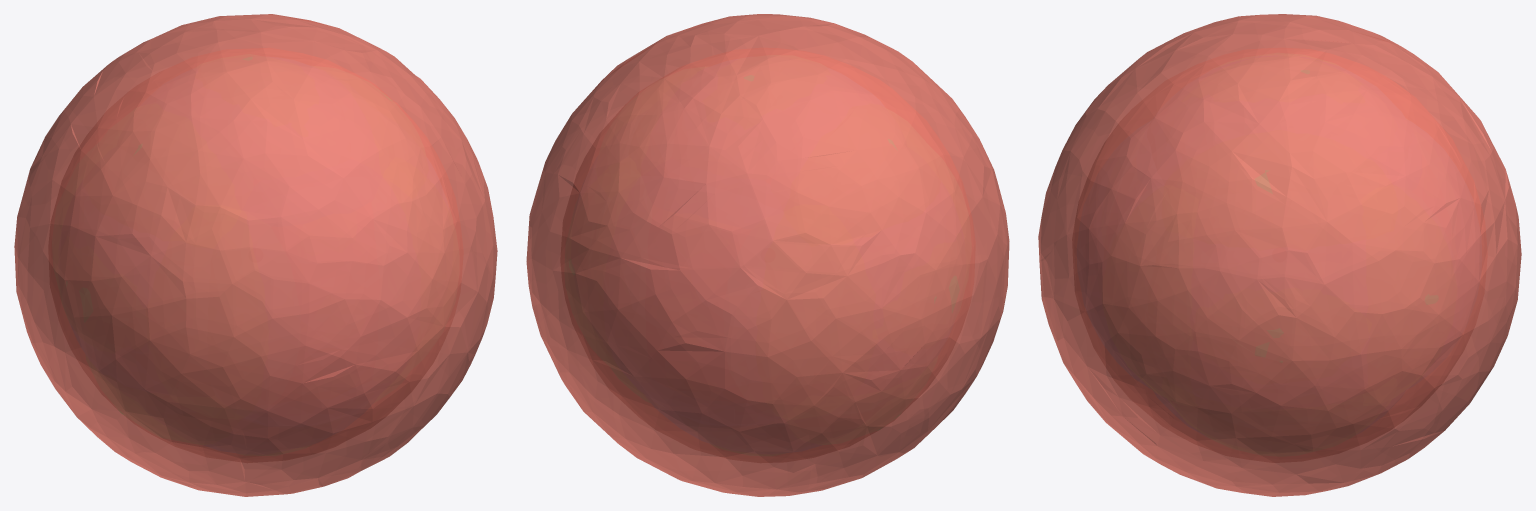
File: orbital.glb
3 renders of one model, left to right at view 1: azimuth 30°, elevation 25°; view 2: azimuth 150°, elevation 25°; view 3: azimuth 270°, elevation 25°, orthographic.
Parts seen in each view (by area): view 1: Db_n7_s_ml0_node, Db_n6_s_ml0_node; view 2: Db_n7_s_ml0_node, Db_n6_s_ml0_node; view 3: Db_n7_s_ml0_node, Db_n6_s_ml0_node.
Part boxes in pixels (left/top/right/bottom): Db_n7_s_ml0_node: left=14, top=14, right=497, bottom=496; Db_n6_s_ml0_node: left=48, top=48, right=463, bottom=462; Db_n7_s_ml0_node: left=526, top=14, right=1009, bottom=496; Db_n6_s_ml0_node: left=560, top=48, right=975, bottom=462; Db_n7_s_ml0_node: left=1038, top=14, right=1521, bottom=496; Db_n6_s_ml0_node: left=1072, top=48, right=1487, bottom=462.
Size of the model in its own units: 3.55 by 3.56 by 3.55.
